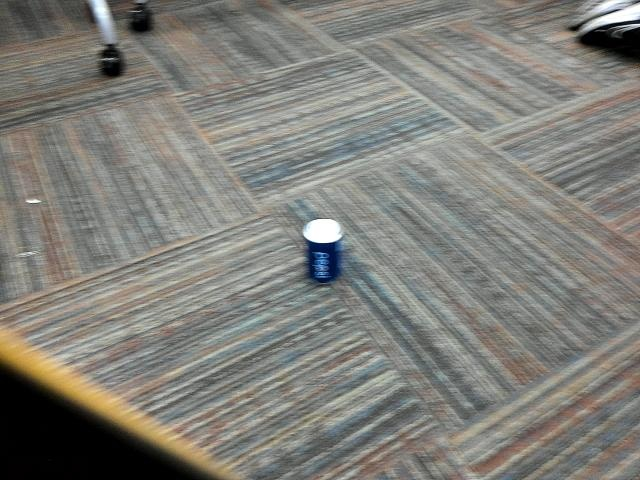can: (301, 214, 353, 290)
